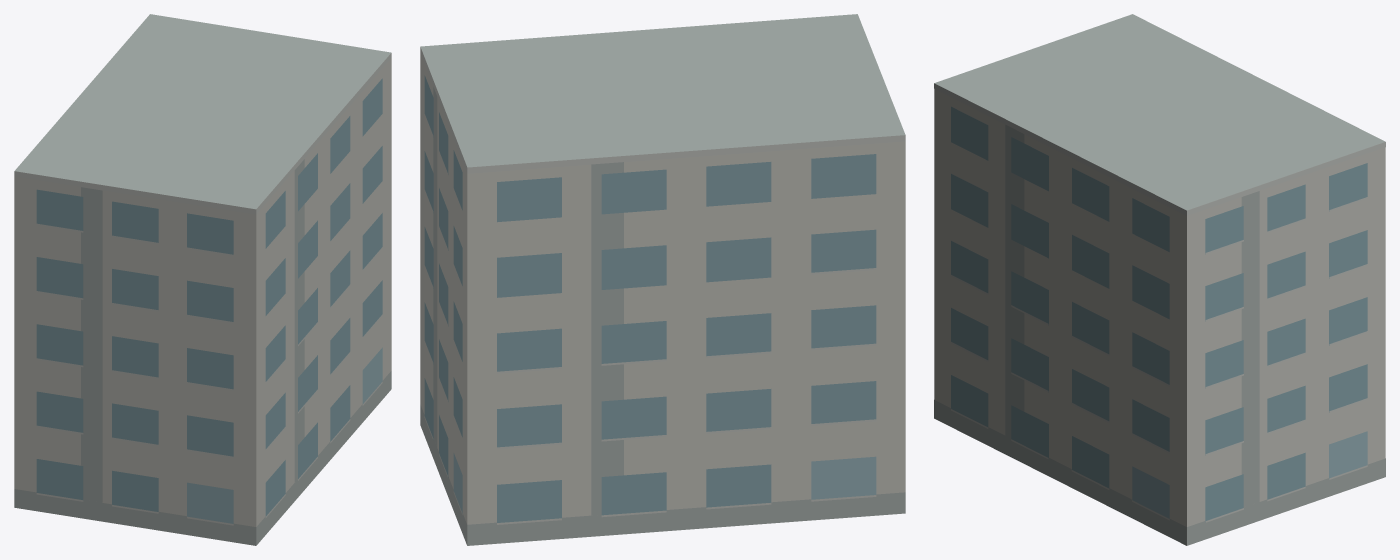
File: survey-upis-32942328.glb
3 views of the same model, side by side, from view 1: azimuth 30°, elevation 25°; view 2: azimuth 150°, elevation 25°; view 3: azimuth 270°, elevation 25° (orthographic). The views are drawn at different scales.
Visible parts, largest first — view 1: survey-upis-32942328.tmp; view 2: survey-upis-32942328.tmp; view 3: survey-upis-32942328.tmp.
Part boxes in pixels (x1,y1,x2,y2): survey-upis-32942328.tmp: (14, 14, 391, 545); survey-upis-32942328.tmp: (420, 14, 905, 545); survey-upis-32942328.tmp: (934, 14, 1385, 545).
Bounding box in the file's own units: 18.9 × 15.02 × 18.35.
